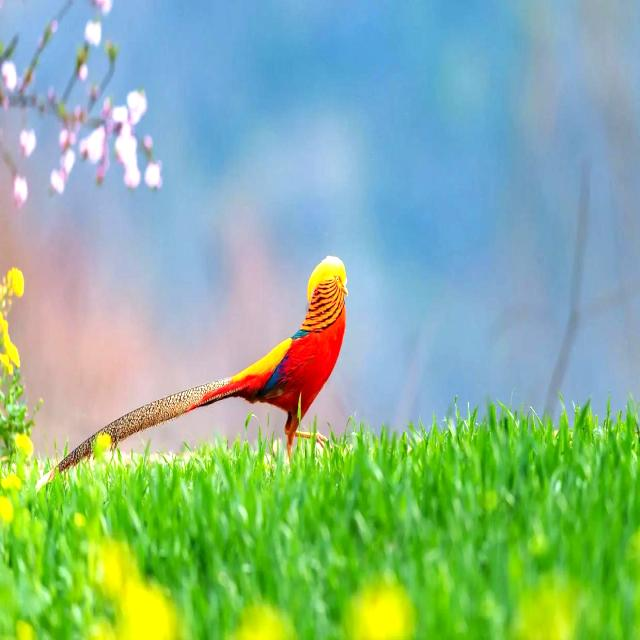Chrysolophus pictus feather: (35, 380, 248, 490)
